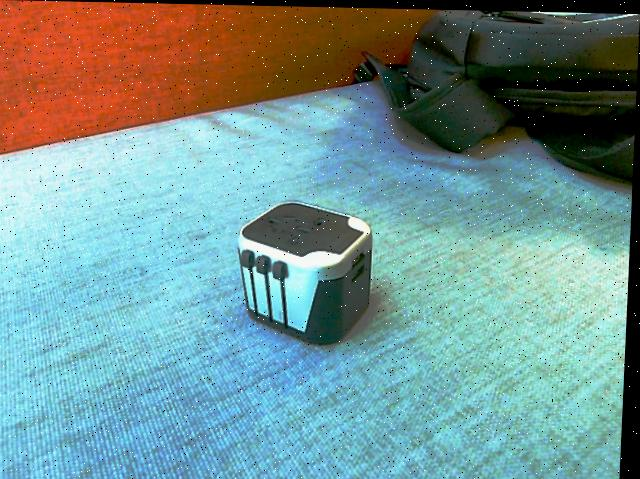adapter: (235, 198, 377, 345)
